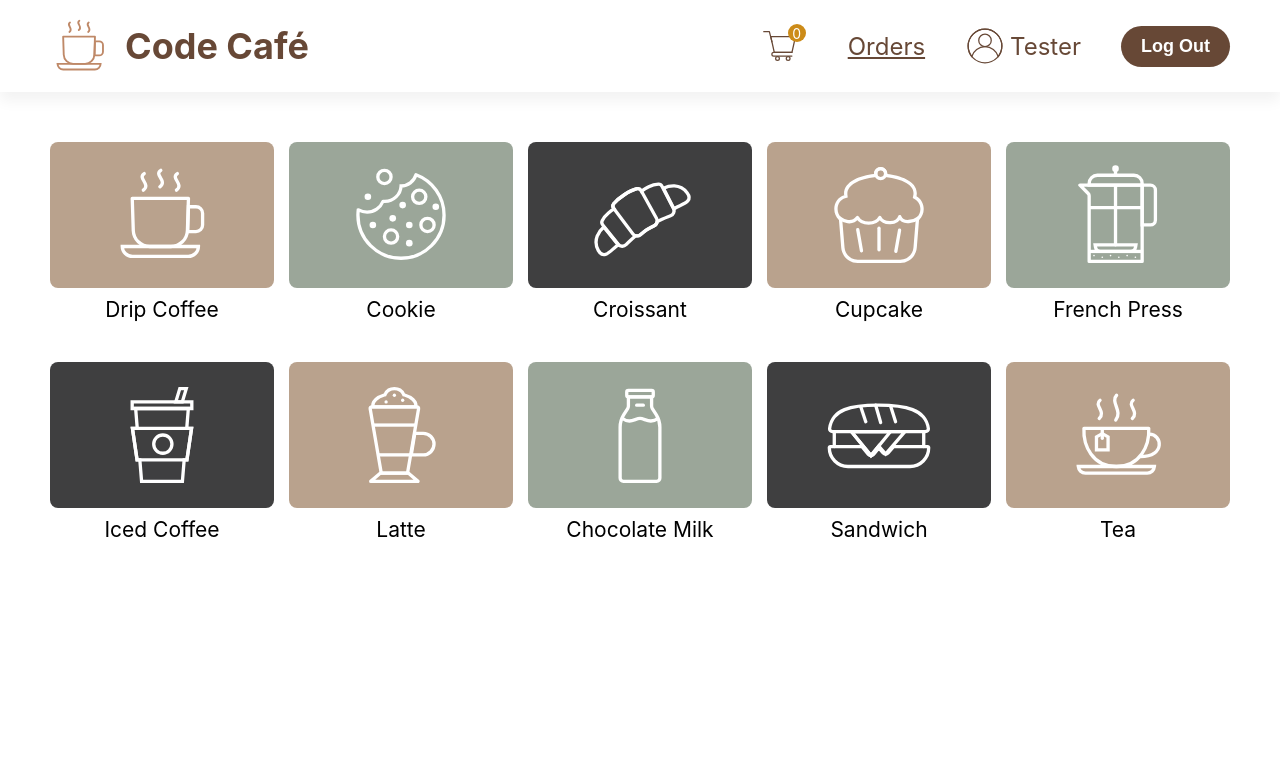
App › allows the user to build a cart and place an order
This screenshot has width=1280, height=759.
# Clicking a Thumbnail navigates to details page
Click the link "Tea" at [1118, 452], box [1006,362,1230,542]
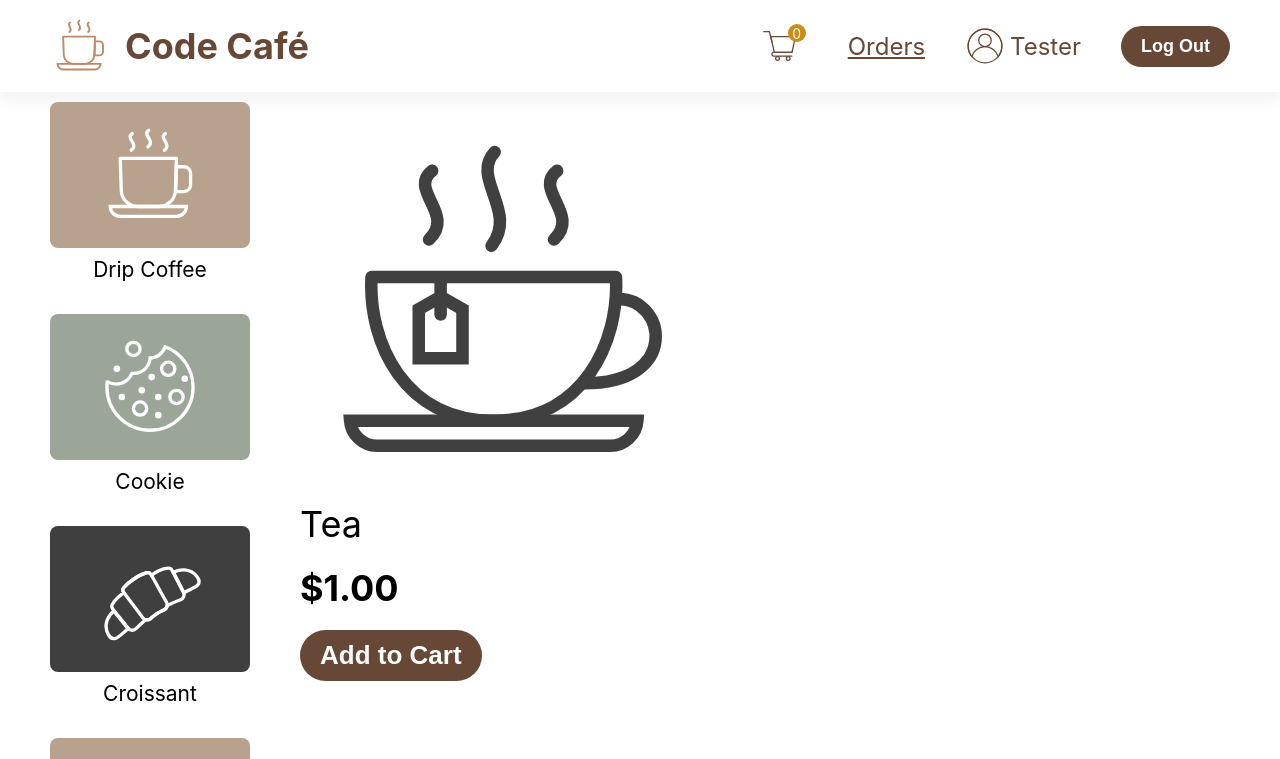
Expected: the button "Add to Cart" is shown
# Items are successfully added to the cart
Click the button "Add to Cart" at [391, 656], box [300,630,482,681]
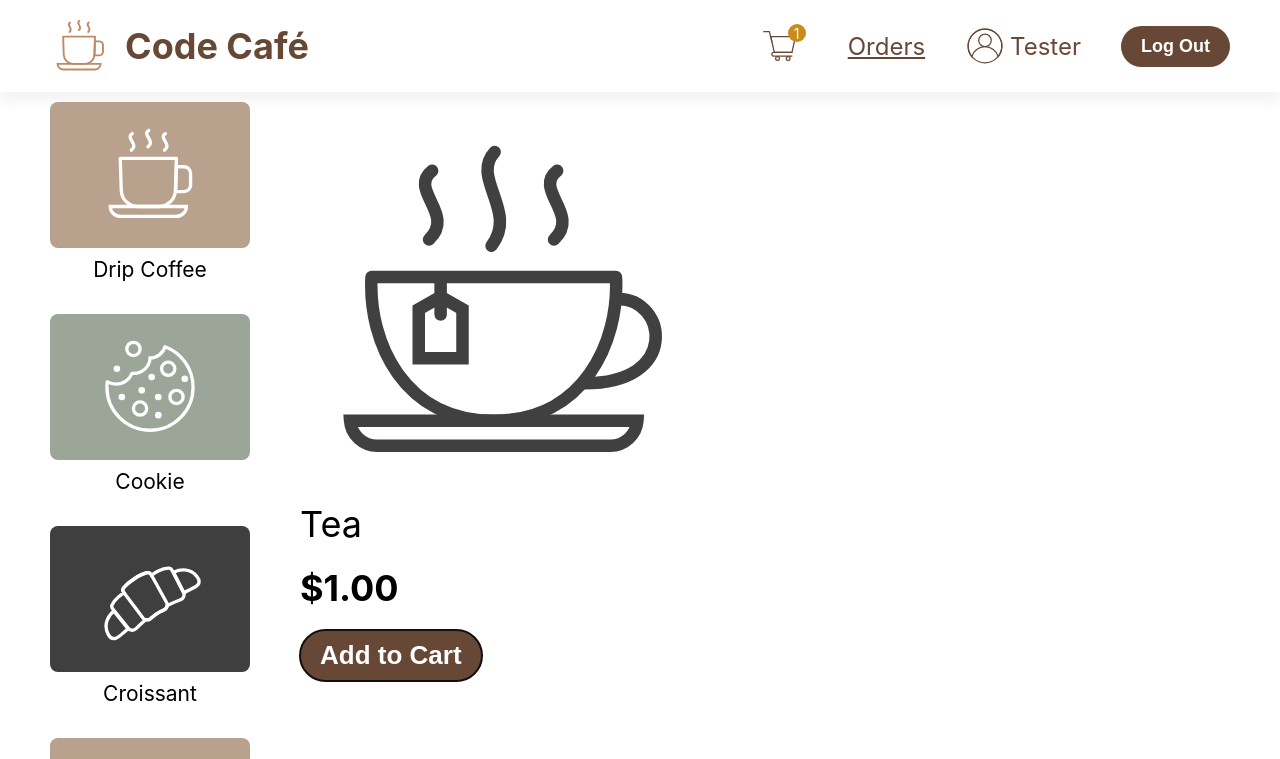
Expected: the text with test id "cart-quantity" reads "1", [794,25,800,42]
Click the button "Add to Cart" at [391, 656], box [300,630,482,681]
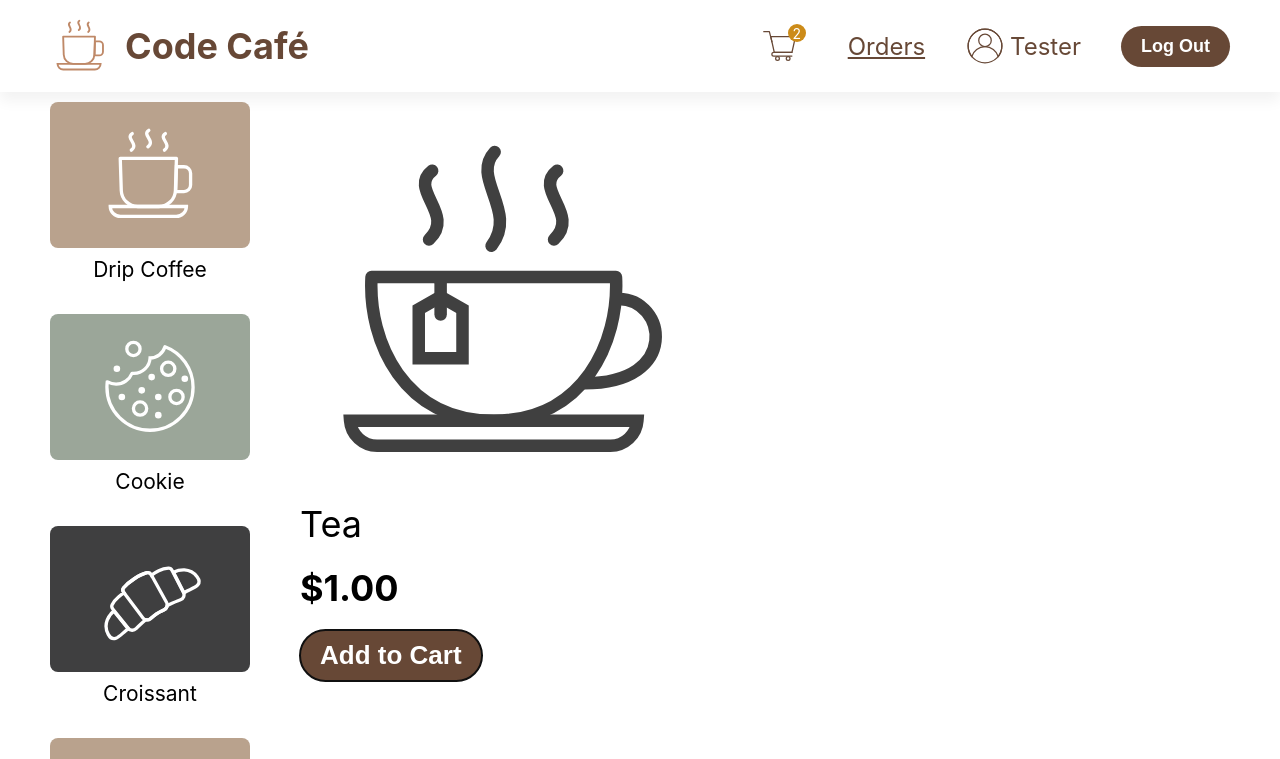
Expected: the text with test id "cart-quantity" reads "2", [792,25,801,42]
# Clicking the cart link navigates to cart
Click the link named "Cart" at [784, 46], box [760,26,808,67]
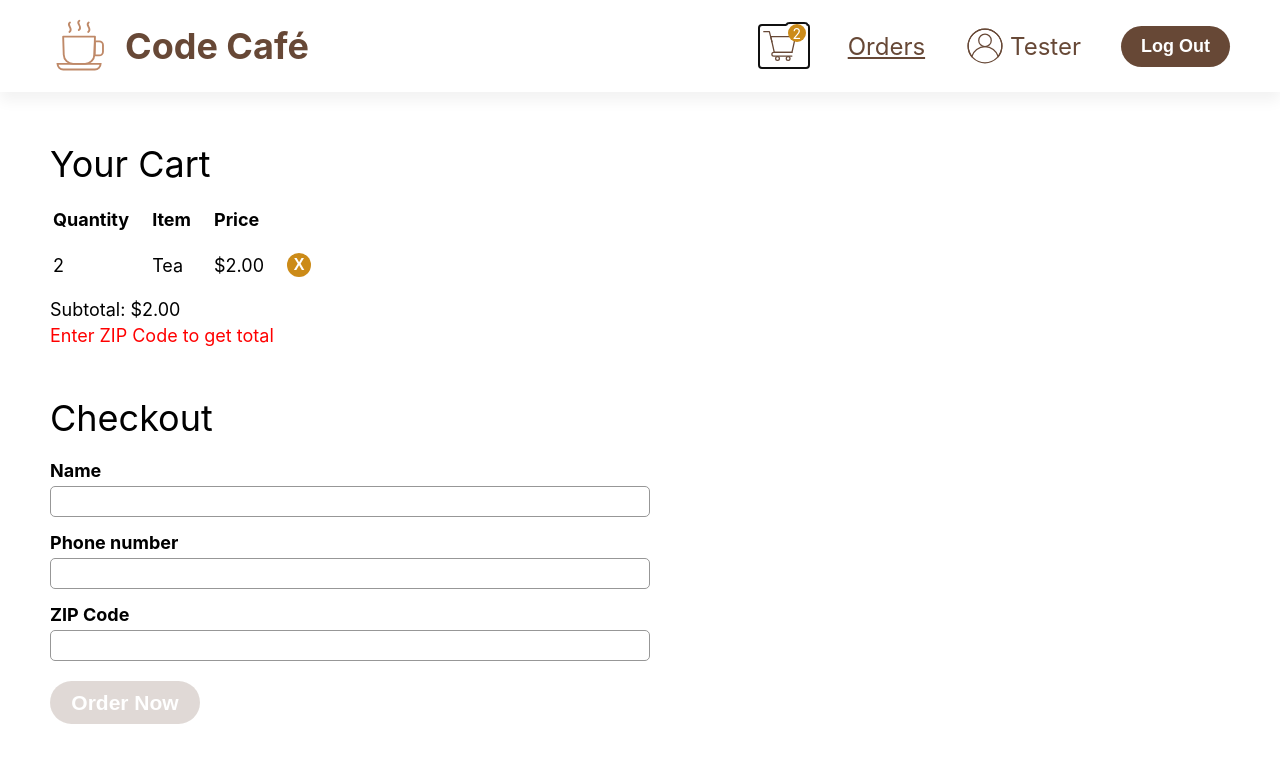
Expected: the field labelled "Name" is shown
Expected: the button "Order Now" is disabled, [50,681,200,724]
Type "Big Nerd Ranch" into the field labelled "Name" at [350, 502], box [50,486,650,517]
Type "30316" into the field labelled "ZIP Code" at [350, 646], box [50,630,650,661]
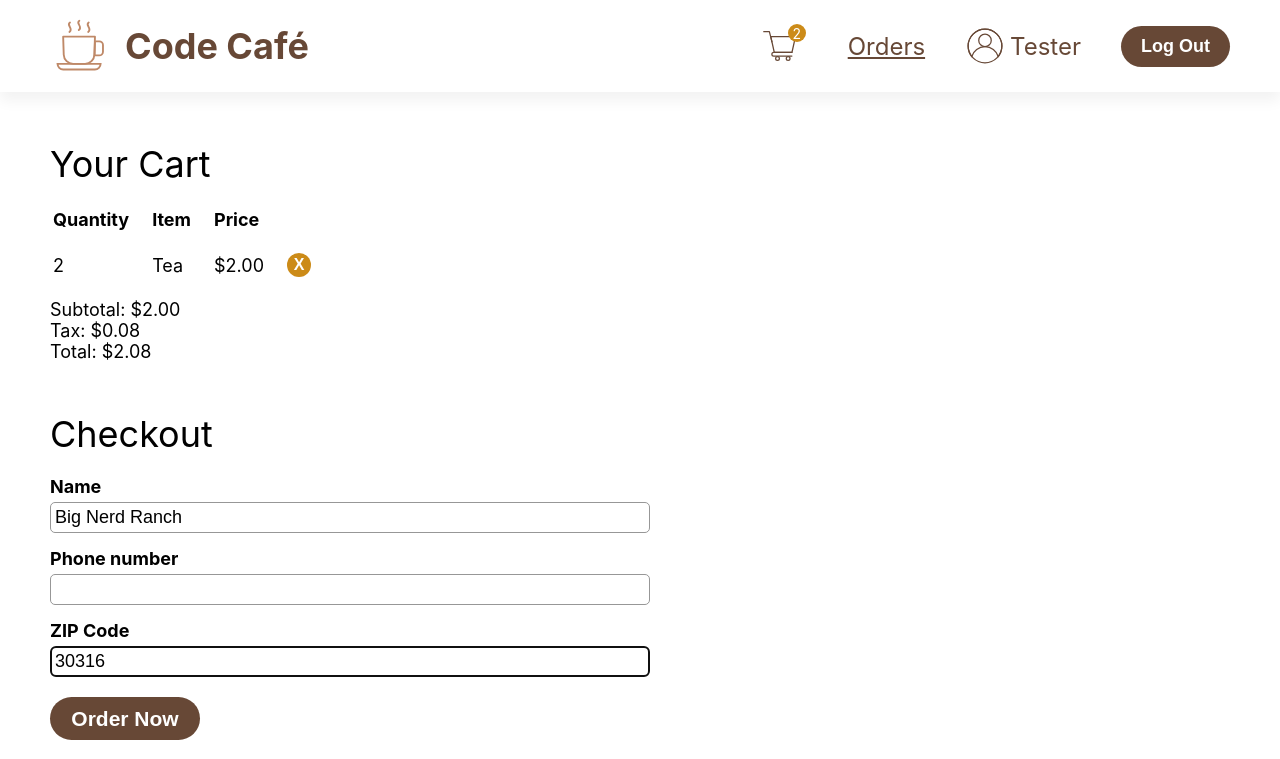
Expected: the button "Order Now" is enabled
# Clicking "Order Now" results in successful checkout
Click the button "Order Now" at [125, 719], box [50,697,200,740]
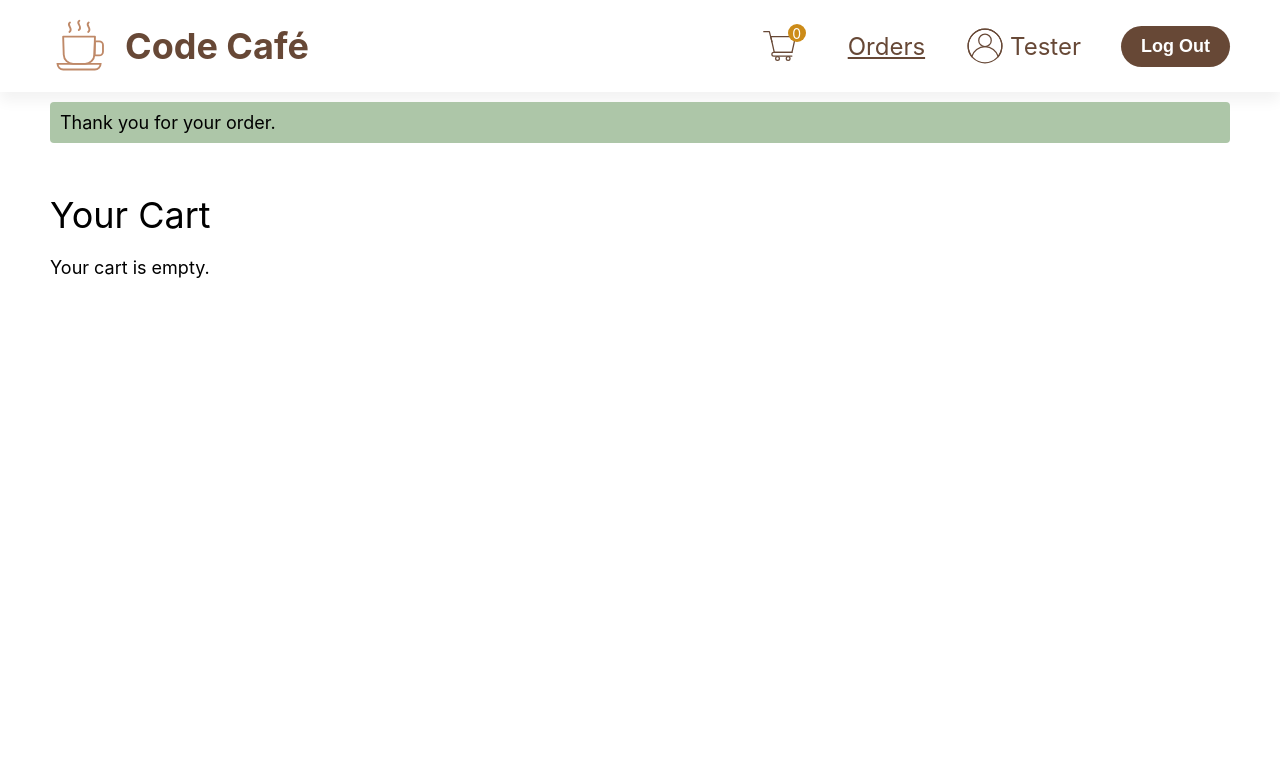
Expected: the text "Thank you for your order." is shown, [50,102,1230,143]
Expected: the text with test id "cart-quantity" reads "0", [792,25,801,42]
